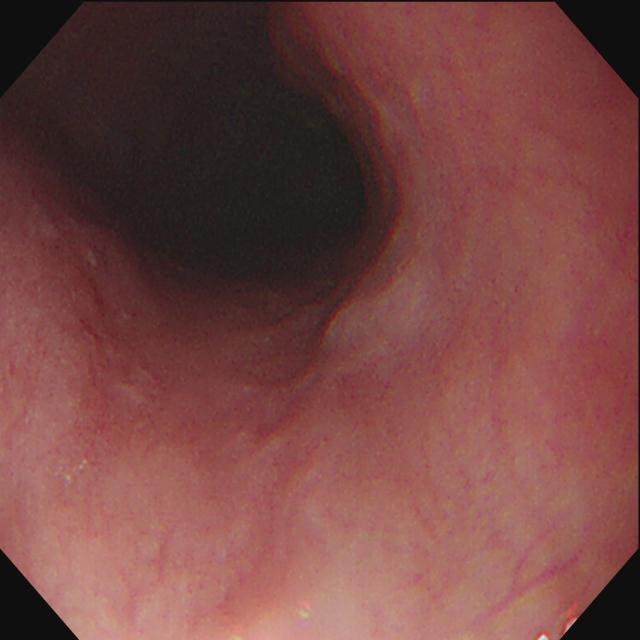E: (220, 102, 381, 285)
